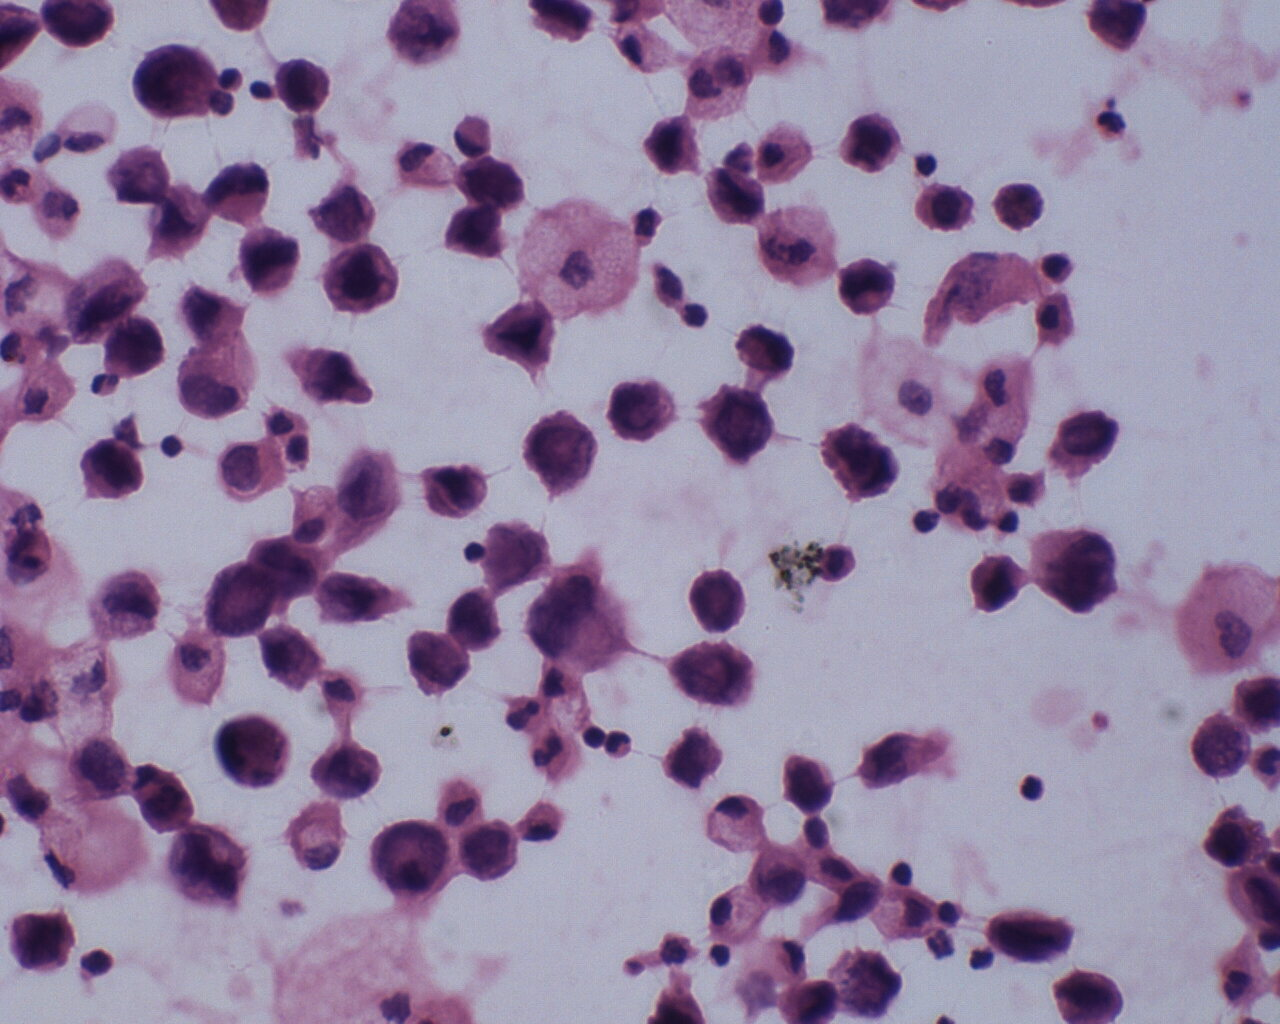ab: (1033, 522, 1120, 618), (129, 39, 216, 125), (987, 899, 1089, 970), (290, 343, 378, 419), (525, 408, 599, 497), (1035, 408, 1121, 485), (369, 816, 450, 897), (320, 238, 400, 319), (701, 380, 777, 465), (215, 712, 294, 793), (200, 562, 276, 639), (231, 222, 302, 300), (1198, 804, 1275, 875), (418, 453, 494, 523), (6, 903, 76, 978), (257, 620, 324, 696), (453, 815, 523, 887), (609, 374, 675, 449), (684, 564, 754, 634), (1185, 711, 1250, 786), (310, 737, 385, 801), (74, 439, 147, 504), (99, 313, 167, 382), (839, 110, 905, 174), (271, 53, 336, 117), (837, 250, 897, 319), (441, 590, 505, 652), (443, 206, 506, 263)
histo: (39, 807, 152, 899), (703, 792, 774, 855), (705, 881, 768, 947)
meso: (912, 173, 976, 237)
